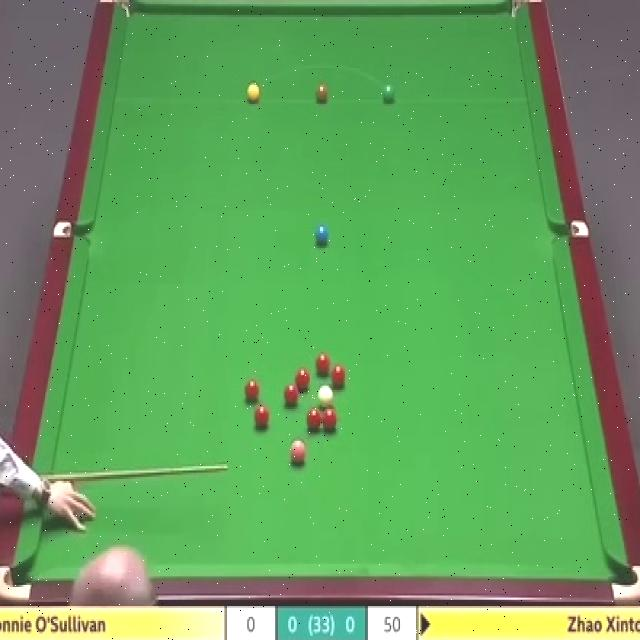blue-ball: (315, 225, 329, 245)
brown-ball: (314, 81, 329, 104)
green-ball: (381, 83, 397, 104)
pink-ball: (289, 438, 307, 463)
red-ball: (252, 406, 271, 432), (305, 406, 322, 432), (330, 364, 347, 390), (243, 379, 260, 403), (294, 368, 311, 392), (283, 384, 299, 408), (315, 351, 331, 373), (323, 408, 337, 432)
white-ball: (317, 384, 334, 410)
yellow-ball: (246, 80, 260, 103)
